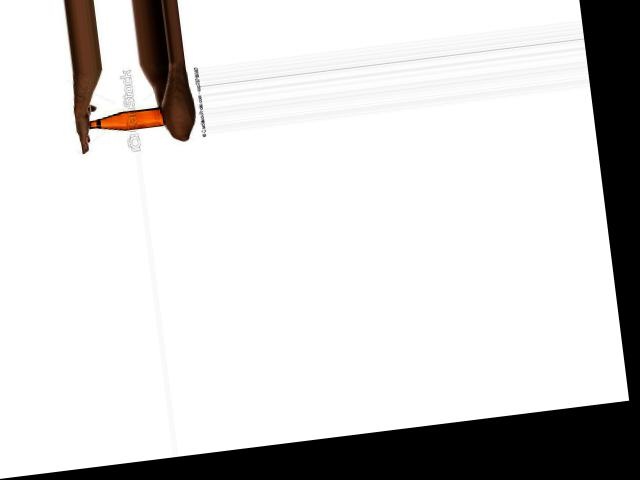beer: (86, 105, 163, 135)
